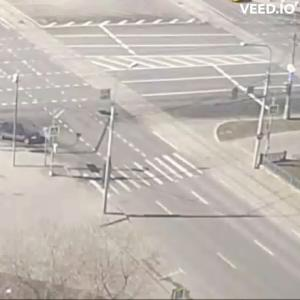car: (1, 122, 49, 152)
